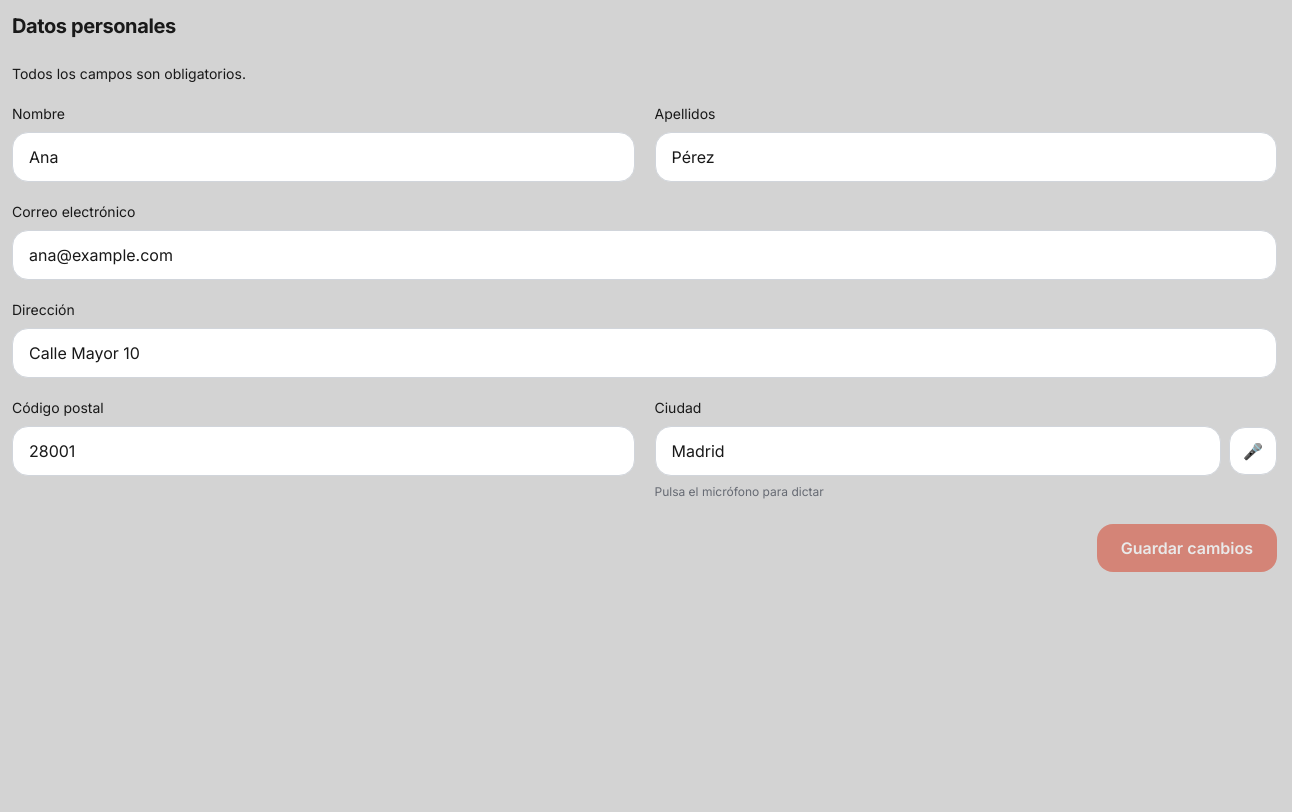
Test: ProfileForm - dictado por voz de la ciudad › dictado correcto: rellena la ciudad con el texto reconocido y marca cambios
Click the button named "Dictar ciudad por voz": (1253, 451) [1229, 427, 1277, 475]
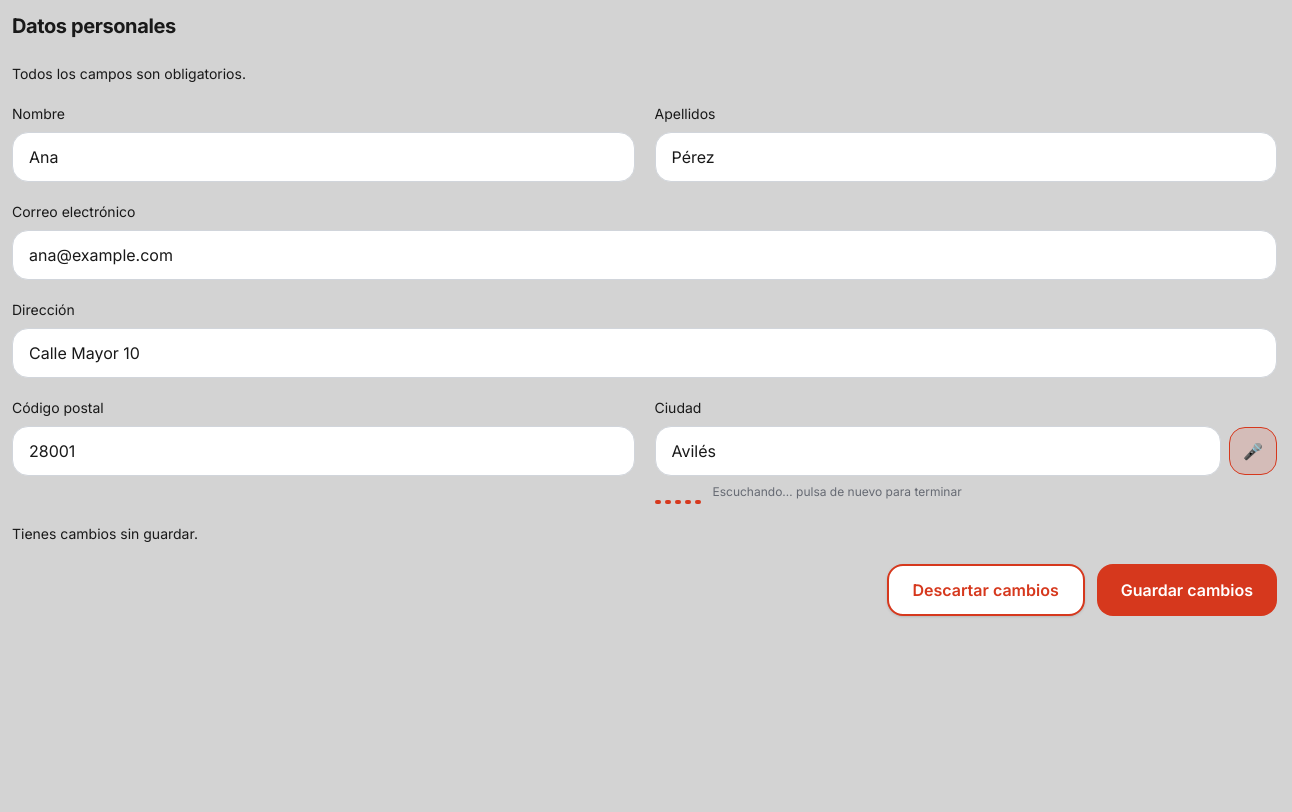
Now the field with id "city" holds "Avilés", box [654, 426, 1221, 476]
Now the text "Tienes cambios sin guardar." is shown, box [12, 525, 198, 542]
